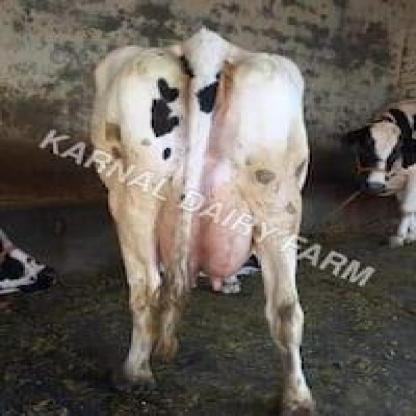cow: (89, 26, 315, 416), (339, 97, 416, 250), (0, 226, 60, 299)
